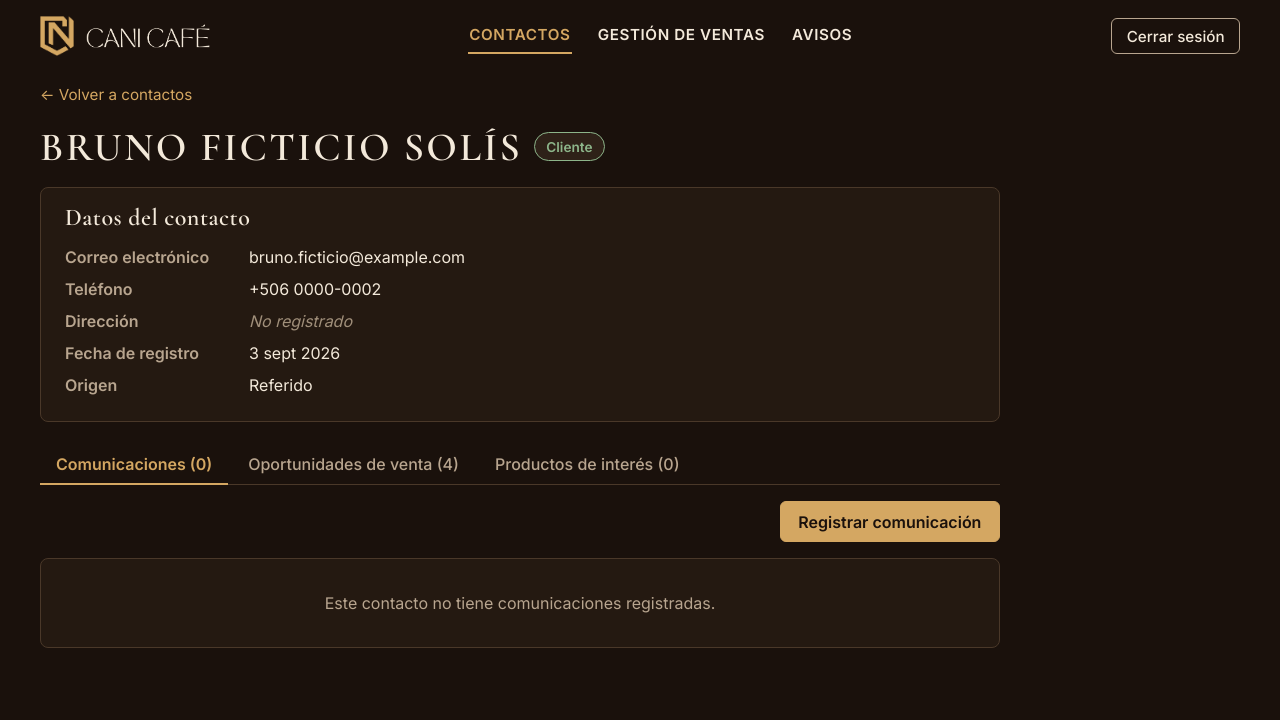
Test case: HU-212 Relacionar una comunicación con una oportunidad de venta › criterio 2: "Todas sus oportunidades de venta" viene elegida
Check: the tab "Oportunidades de venta (4)" is shown, box [232,446,475,485]
What coordinates should you click on to do the following:
click the button "Registrar comunicación"
I would click on:
 (890, 522)
Its box is [780,501,1000,542].
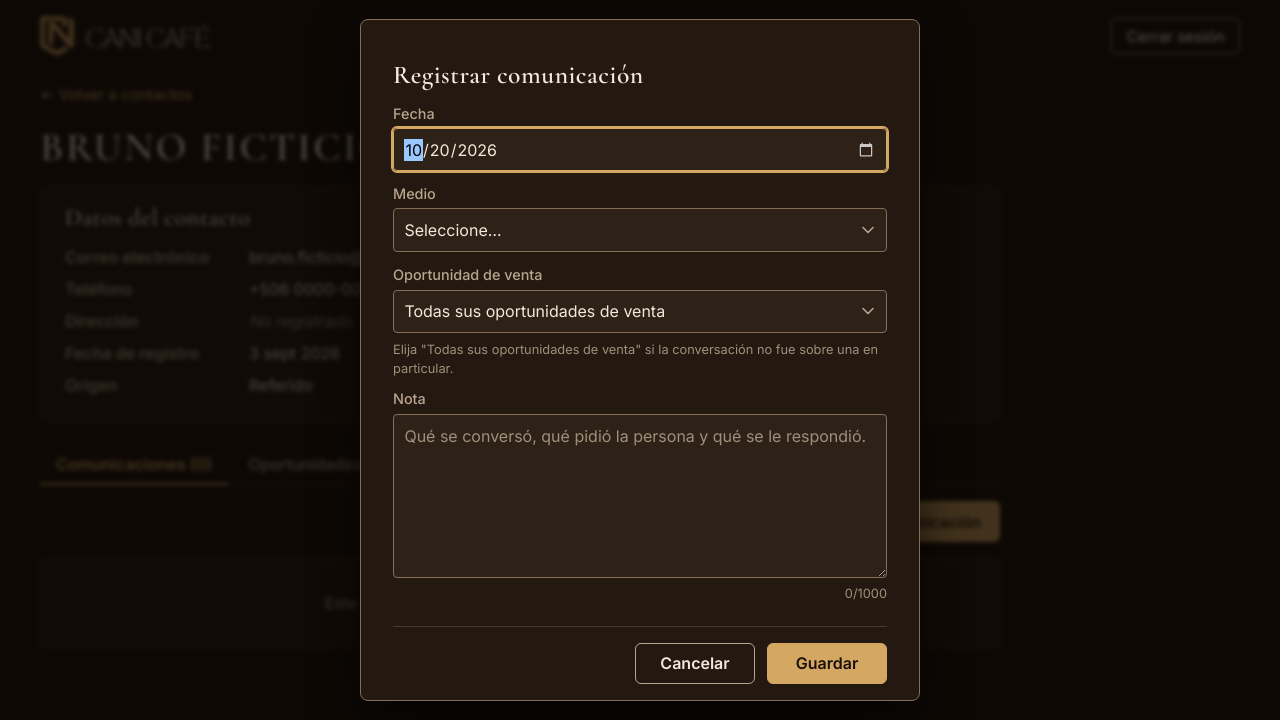
Check: the text "si la conversación no fue sobre una en particular" is shown, box [393,342,878,376]
